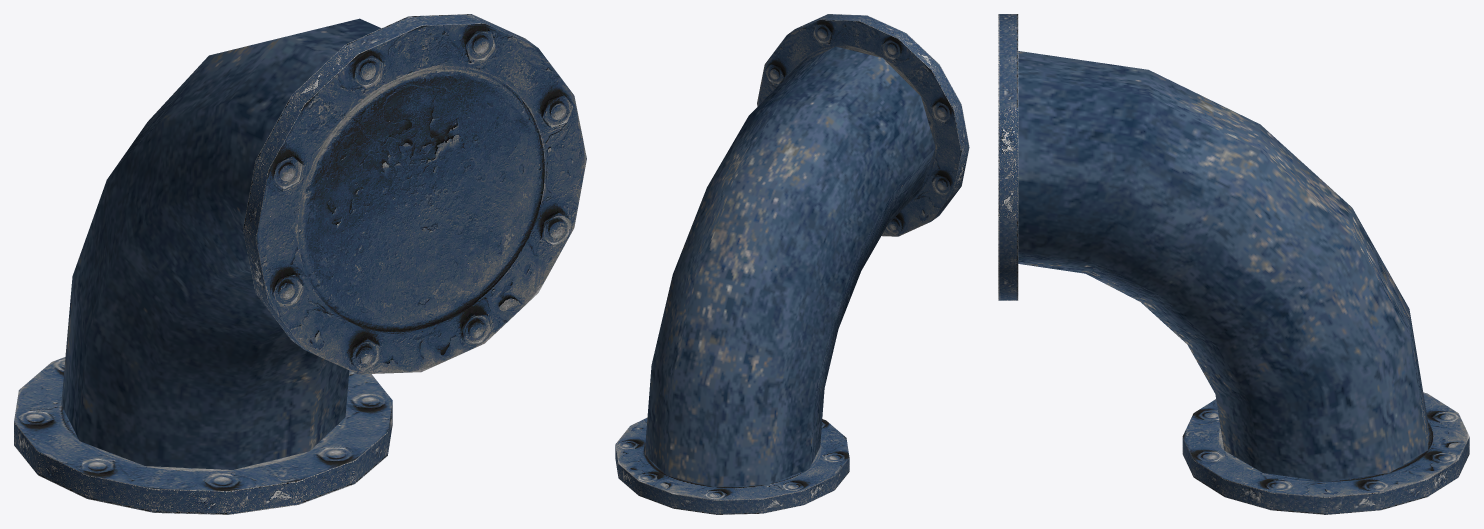
Rendered from elbow_blue.DAE.
The picture shows the model from 3 angles, left to right: view 1: azimuth 30°, elevation 25°; view 2: azimuth 150°, elevation 25°; view 3: azimuth 270°, elevation 25°; orthographic projection. The views are drawn at different scales.
Parts seen in each view (by area): view 1: Object382, Torus035; view 2: Torus035, Object382; view 3: Torus035, Object382.
Boxes of the visible parts, x1,y1,x2,y2 form: Object382: (14,14,586,514); Torus035: (61,18,381,469); Torus035: (644,46,935,487); Object382: (615,14,969,514); Torus035: (1018,51,1428,481); Object382: (998,14,1469,514).
Size of the model in its own units: 0.6566 by 1.08 by 1.08.
